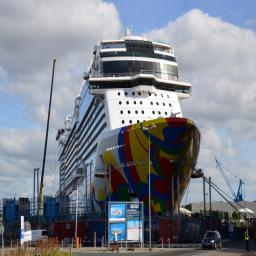cruises: (53, 25, 203, 247)
